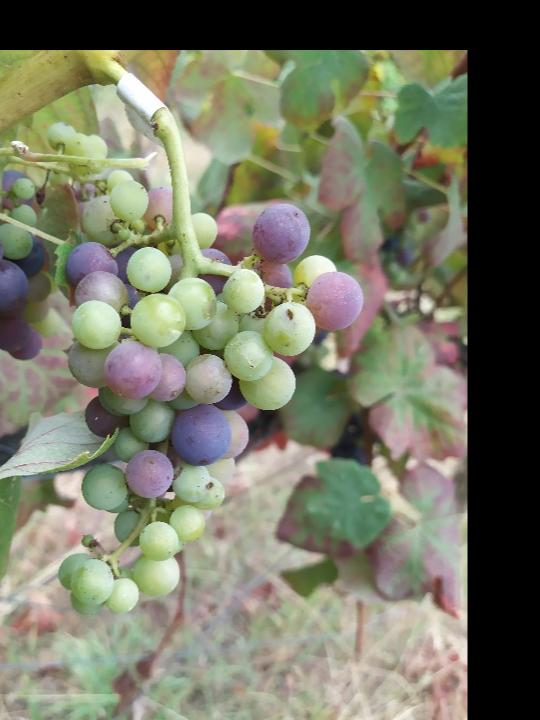grape: (55, 174, 367, 618)
